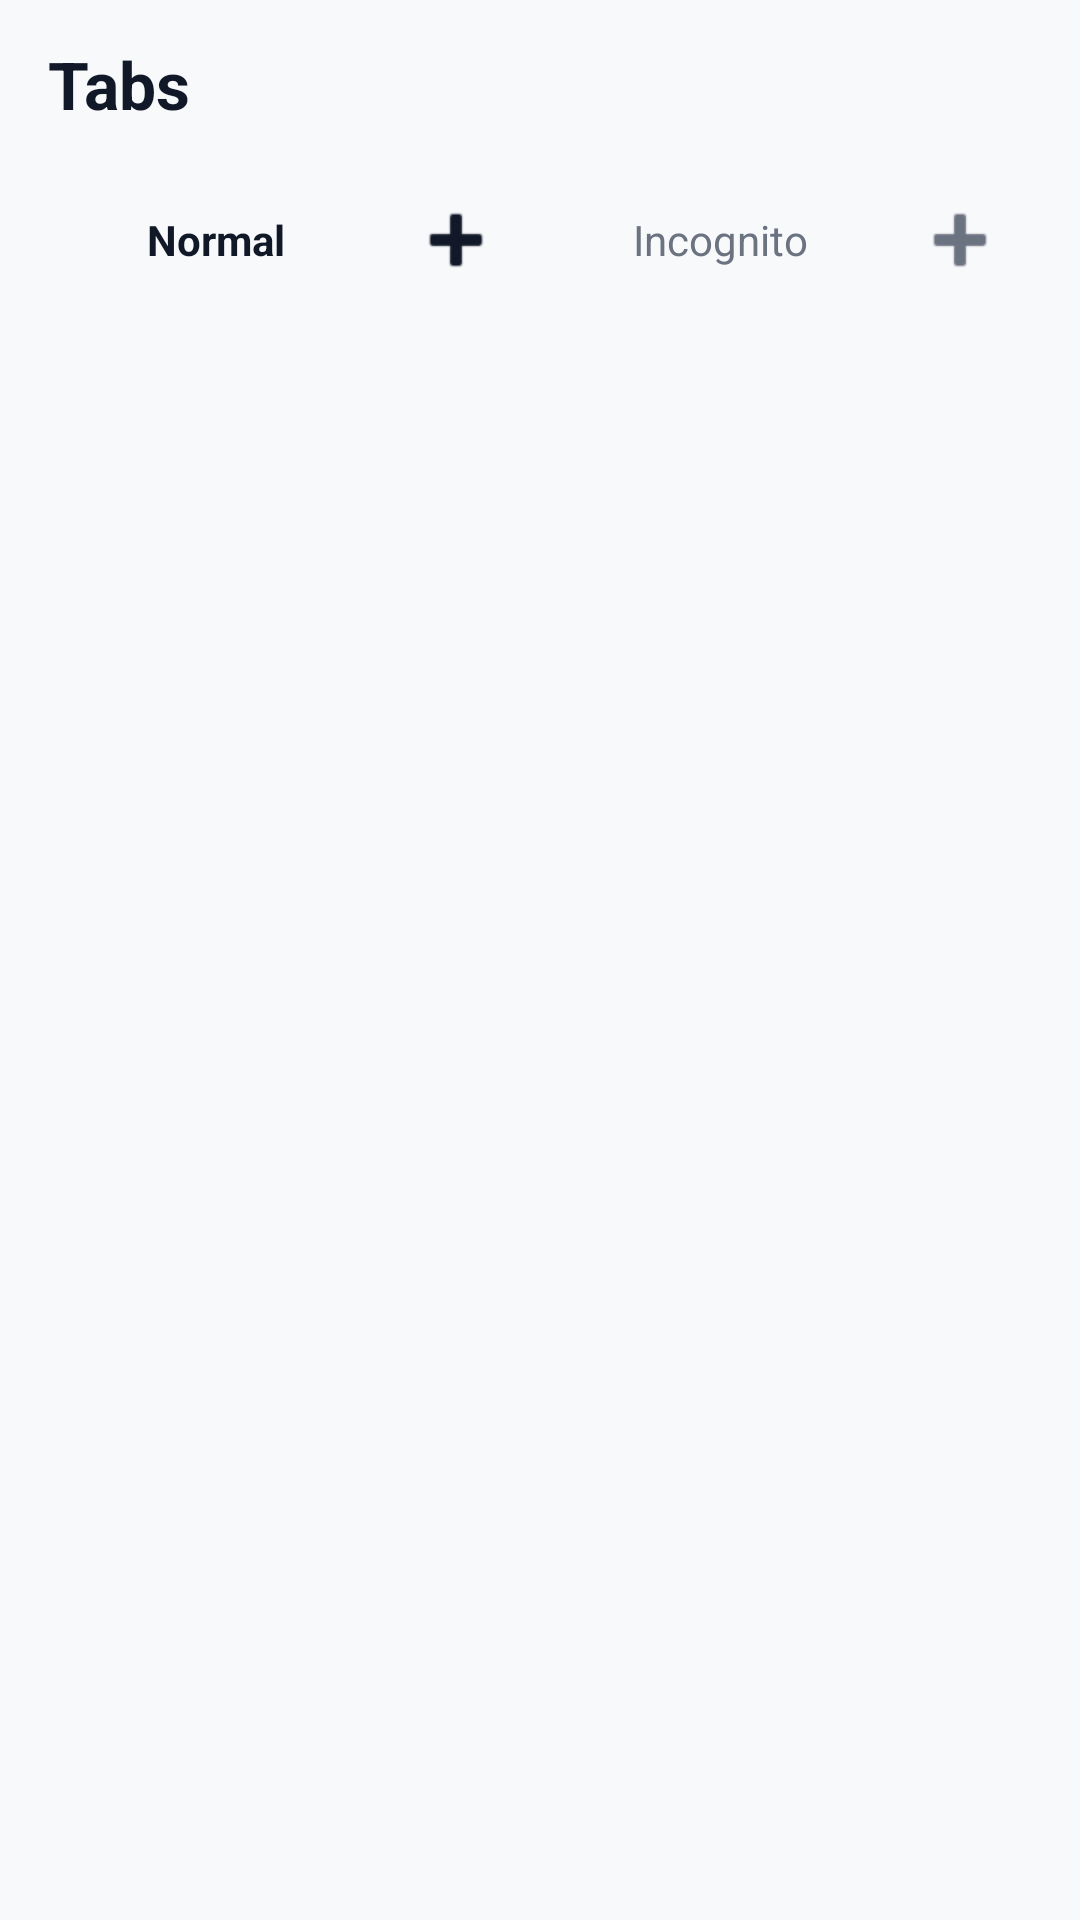

Screen size 1080px×1920px. Icon name, then its center in pixels as point (x, y):
add: point (456, 240), point (960, 240)
